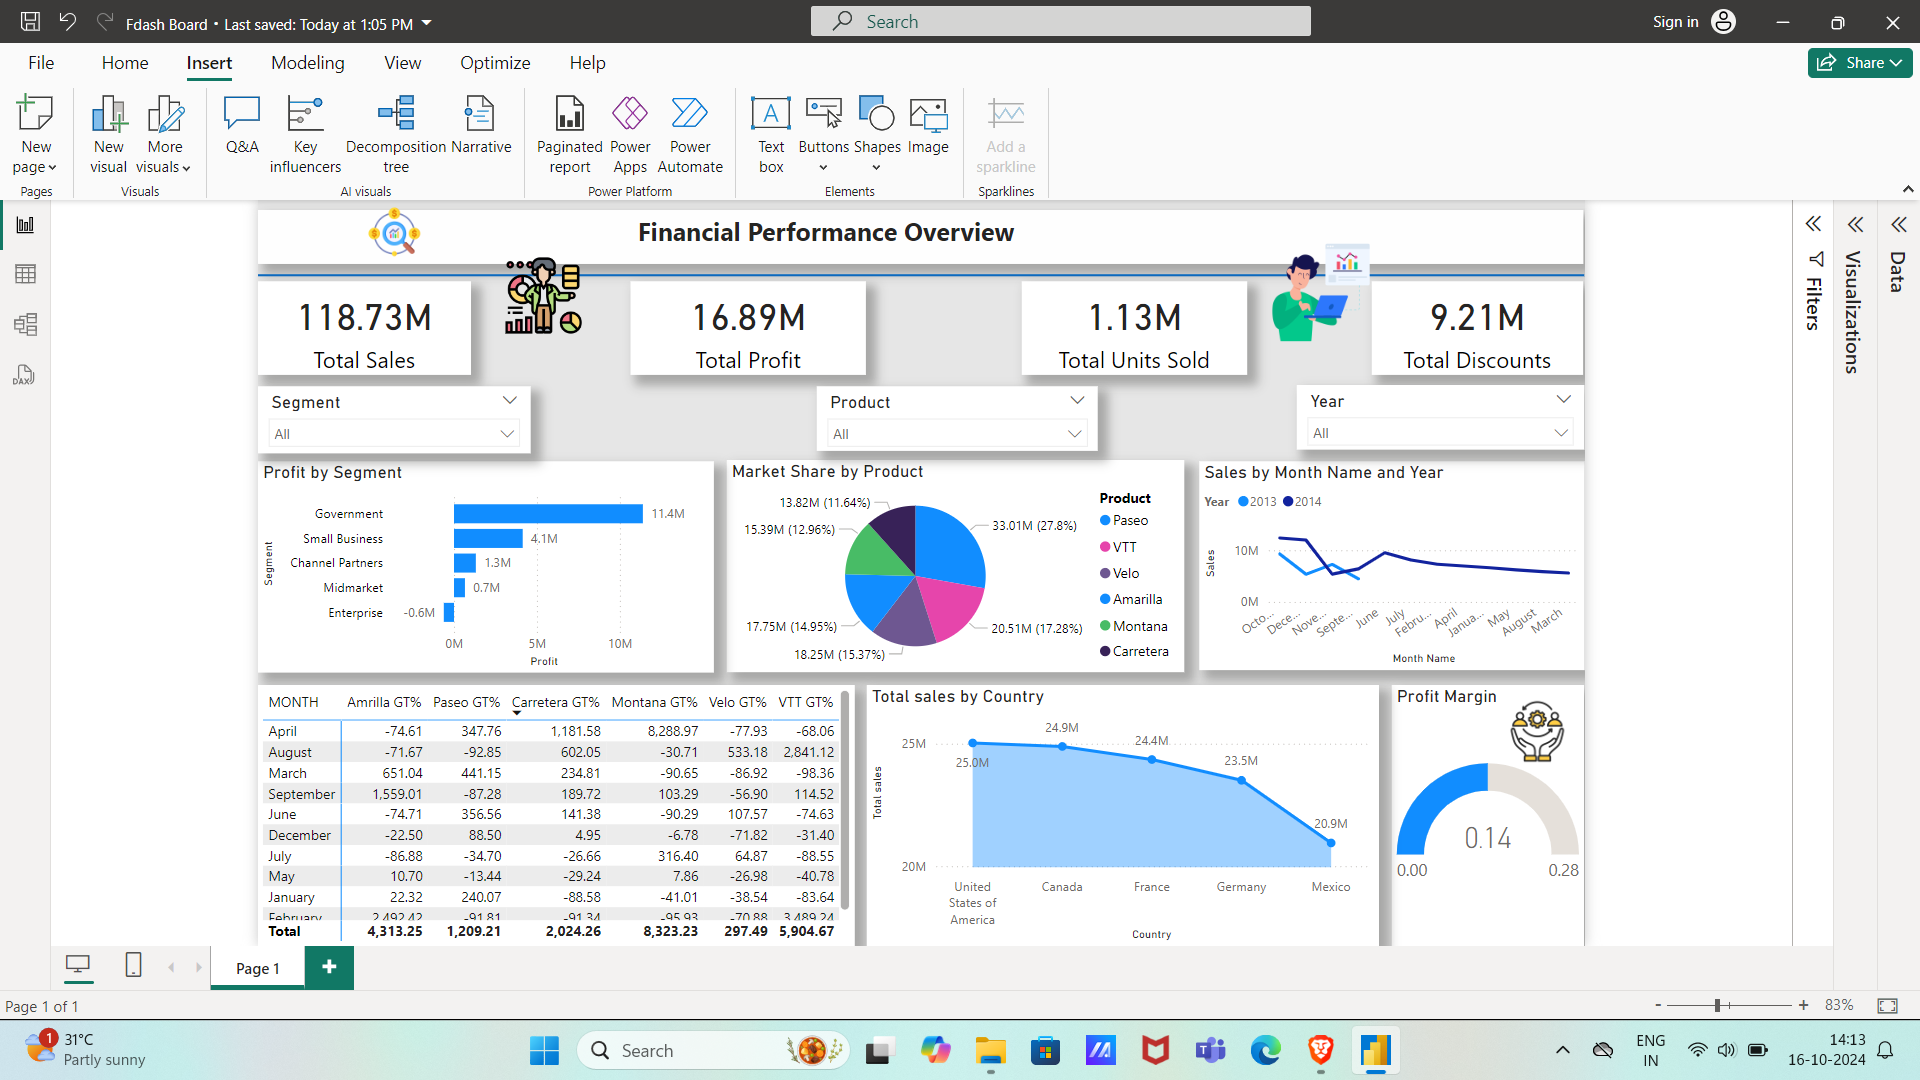

The page's visual inventory and layout, read from the dashboard file:
{"tool":"powerbi","page":{"name":"Page 1","canvas":[1280,720],"ordinal":0},"visuals":[{"type":"textbox","box":[0,9.7,1278.8,51.9],"z":0},{"type":"shape","box":[0,50.8,1280.3,43.9],"z":1000},{"type":"card","fields":{"Values":["Sum(Main table. Sales)"]},"box":[0,78.3,205.4,90.5],"z":2000},{"type":"card","fields":{"Values":["Sum(Main table.Profit)"]},"box":[359.5,78.3,227.4,90.5],"z":3000},{"type":"card","fields":{"Values":["Sum(Main table.Units Sold)"]},"box":[737.4,78.3,217.7,90.5],"z":4000},{"type":"card","fields":{"Values":["Sum(Main table.Discounts)"]},"box":[1074.9,78.4,203.9,90.5],"z":5000},{"type":"pieChart","title":" Market Share by Product","fields":{"Category":["Main table.Product"],"Y":["Sum(Main table. Sales)"]},"box":[452.4,250.9,441.6,205.1],"z":6000},{"type":"lineChart","fields":{"Category":["Main table.Month Name"],"Y":["Sum(Main table. Sales)"],"Series":["Main table.Year"]},"box":[908.6,251.9,371.7,201.8],"z":7000},{"type":"slicer","fields":{"Values":["Main table.Product"]},"box":[539.3,179.8,271.5,62.4],"z":8000},{"type":"slicer","fields":{"Values":["Main table.Year"]},"box":[1002.7,178.5,277.6,62.4],"z":9000},{"type":"clusteredBarChart","fields":{"Category":["Main table.Segment"],"Y":["Sum(Main table.Profit)"]},"box":[0,251.9,440.2,204.2],"z":10000},{"type":"slicer","fields":{"Values":["Main table.Segment"]},"box":[0,179.8,262.9,64.8],"z":11000},{"type":"pivotTable","fields":{"Rows":["Sheet7.MONTH"],"Values":["Sum(Sheet7.Amrilla Growth Rate%)","Sum(Sheet7. Paseo  Growth Rate%)","Sum(Sheet7.Carretera GT%)","Sum(Sheet7.Montana GT%)","Sum(Sheet7.Velo GT%)","Sum(Sheet7.VTT GT%)"]},"box":[0,468.3,576,251.9],"z":12000},{"type":"gauge","fields":{"Y":["Main table.Profit Margin"]},"box":[1094.4,468.3,185.9,251.9],"z":13000},{"type":"lineChart","fields":{"Y":["Sum(Country total sales& Mk share.Total sales)"],"Category":["Country total sales& Mk share.Country name"]},"box":[587,468.3,494,251.9],"z":14000},{"type":"image","box":[80.8,0,101.3,61.5],"z":15000},{"type":"image","box":[971.2,0,109.8,178.6],"z":16000},{"type":"image","box":[1200.4,477.8,68.8,71.2],"z":16001},{"type":"image","box":[234,31.4,83.2,121.9],"z":16002}]}

Visuals, with their boxes on the page's 1280x720 design canvas (x1, y1, x2, y2). These are canvas units, not pixel positions in the 1920x1080 screenshot, which may show the page scaled, cropped or inside an application window:
textbox: x1=0 y1=10 x2=1279 y2=62
shape: x1=0 y1=51 x2=1280 y2=95
card - Sum(Main table. Sales): x1=0 y1=78 x2=205 y2=169
card - Sum(Main table.Profit): x1=360 y1=78 x2=587 y2=169
card - Sum(Main table.Units Sold): x1=737 y1=78 x2=955 y2=169
card - Sum(Main table.Discounts): x1=1075 y1=78 x2=1279 y2=169
" Market Share by Product" pieChart: x1=452 y1=251 x2=894 y2=456
lineChart - Main table.Month Name x Sum(Main table. Sales): x1=909 y1=252 x2=1280 y2=454
slicer - Main table.Product: x1=539 y1=180 x2=811 y2=242
slicer - Main table.Year: x1=1003 y1=178 x2=1280 y2=241
clusteredBarChart - Main table.Segment x Sum(Main table.Profit): x1=0 y1=252 x2=440 y2=456
slicer - Main table.Segment: x1=0 y1=180 x2=263 y2=245
pivotTable - Sheet7.MONTH x Sum(Sheet7.Amrilla Growth Rate%): x1=0 y1=468 x2=576 y2=720
gauge - Main table.Profit Margin: x1=1094 y1=468 x2=1280 y2=720
lineChart - Sum(Country total sales& Mk share.Total sales) x Country total sales& Mk share.Country name: x1=587 y1=468 x2=1081 y2=720
image: x1=81 y1=0 x2=182 y2=62
image: x1=971 y1=0 x2=1081 y2=179
image: x1=1200 y1=478 x2=1269 y2=549
image: x1=234 y1=31 x2=317 y2=153
